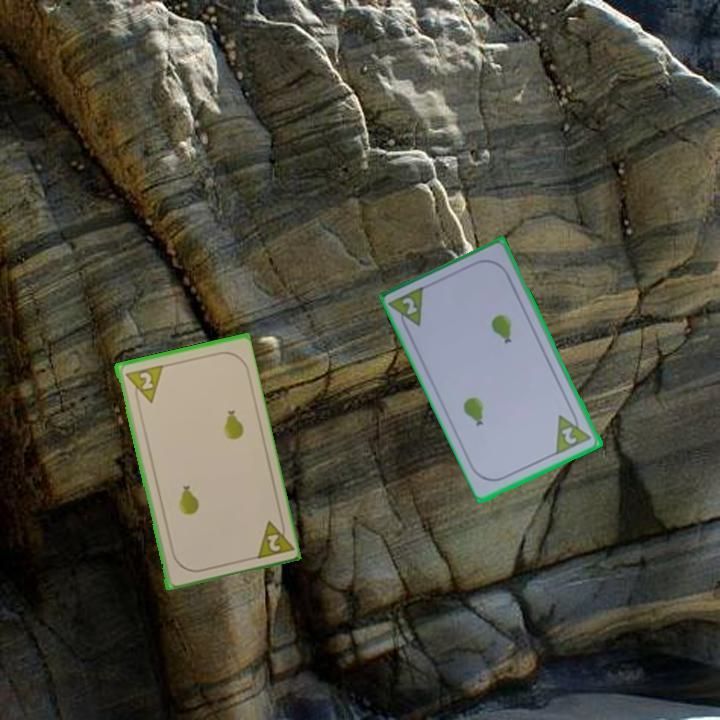2p: (387, 283, 429, 336), (552, 406, 595, 457), (250, 513, 294, 562), (121, 361, 165, 408)
